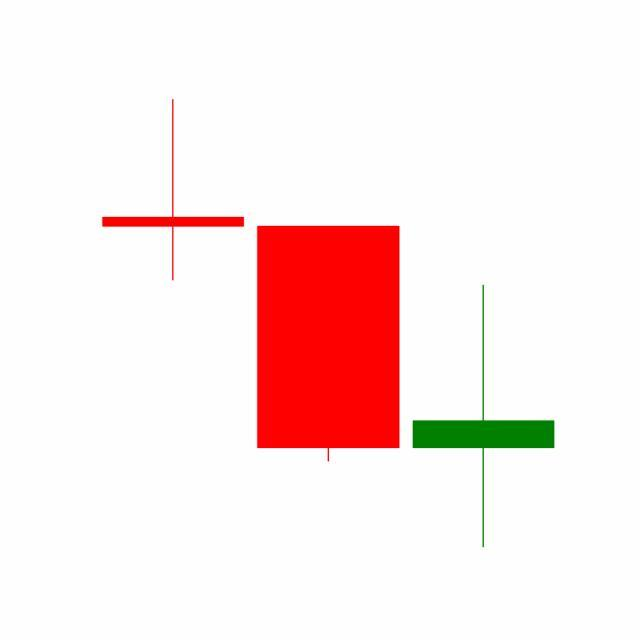Spinning Top: (406, 283, 562, 552)
